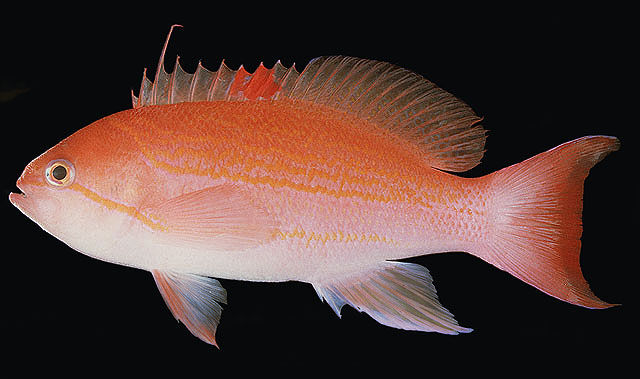fish: (9, 24, 623, 348)
